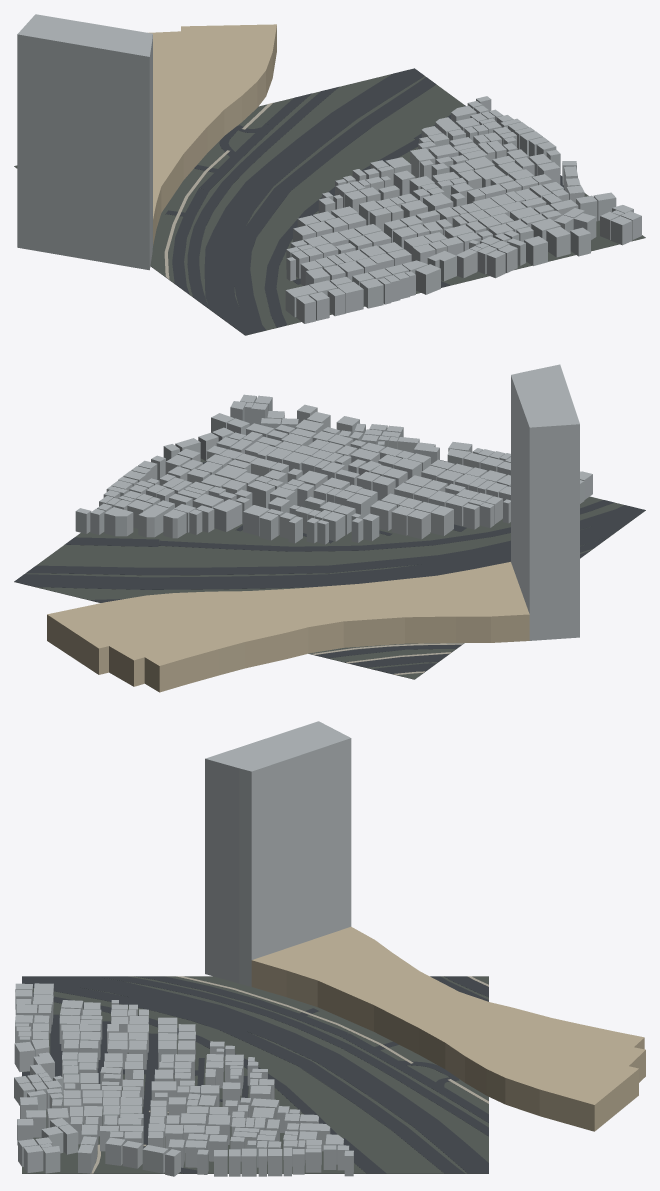
File: tile_006_004.glb
3 renders of one model, top to bottom at view 1: azimuth 30°, elevation 25°; view 2: azimuth 150°, elevation 25°; view 3: azimuth 270°, elevation 25°, orthographic.
Visible parts, largest first — view 1: tile_006_004_buildings_neutral, tile_006_004_roads, tile_006_004_ground, tile_006_004_buildings_retail, tile_006_004_paths; view 2: tile_006_004_buildings_neutral, tile_006_004_buildings_retail, tile_006_004_roads, tile_006_004_ground, tile_006_004_paths; view 3: tile_006_004_buildings_neutral, tile_006_004_buildings_retail, tile_006_004_roads, tile_006_004_ground, tile_006_004_paths.
Boxes of the visible parts, bbox=[...] form: tile_006_004_buildings_neutral: bbox=[17, 14, 641, 323]; tile_006_004_roads: bbox=[165, 68, 564, 335]; tile_006_004_ground: bbox=[14, 74, 645, 335]; tile_006_004_buildings_retail: bbox=[148, 24, 276, 245]; tile_006_004_paths: bbox=[164, 103, 272, 279]; tile_006_004_buildings_neutral: bbox=[75, 364, 592, 640]; tile_006_004_buildings_retail: bbox=[47, 562, 529, 692]; tile_006_004_roads: bbox=[14, 460, 645, 673]; tile_006_004_ground: bbox=[14, 458, 645, 679]; tile_006_004_paths: bbox=[311, 643, 463, 674]; tile_006_004_buildings_neutral: bbox=[14, 721, 353, 1176]; tile_006_004_buildings_retail: bbox=[251, 926, 645, 1131]; tile_006_004_roads: bbox=[22, 976, 488, 1173]; tile_006_004_ground: bbox=[22, 976, 488, 1173]; tile_006_004_paths: bbox=[90, 976, 488, 1173].
Size of the model in its own units: 304 by 127 by 338.
